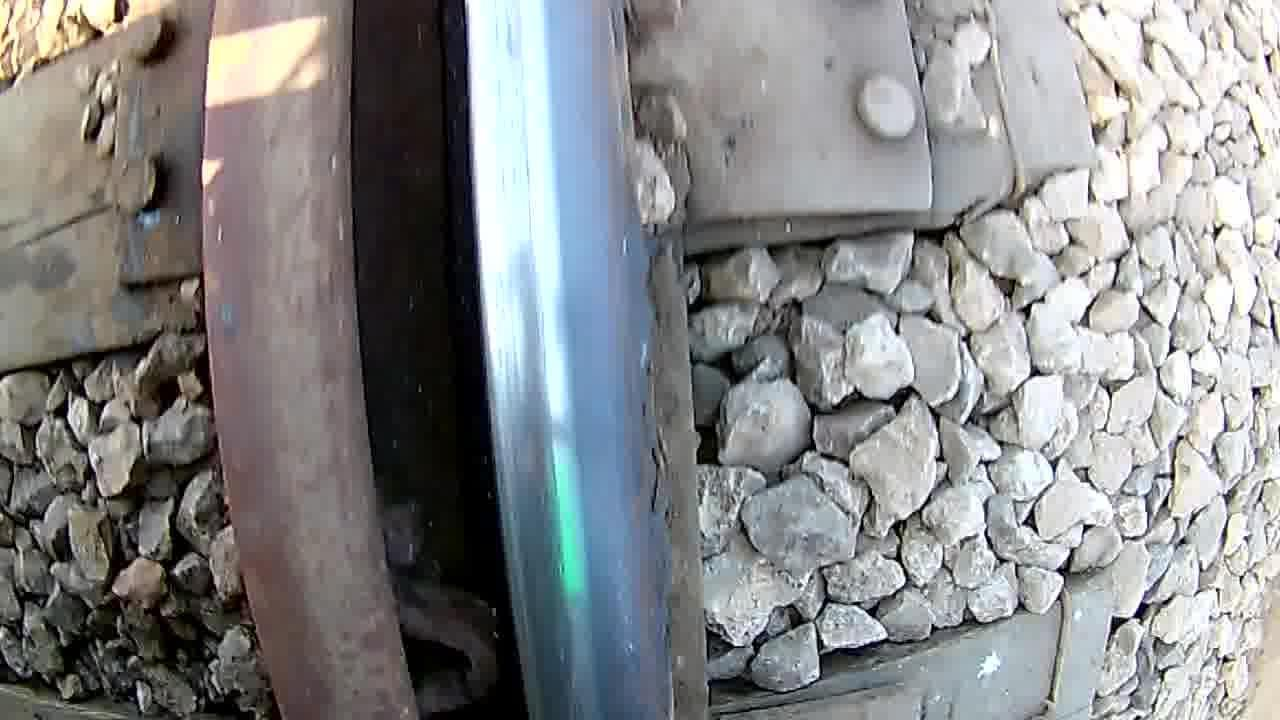crack: (462, 0, 656, 720)
